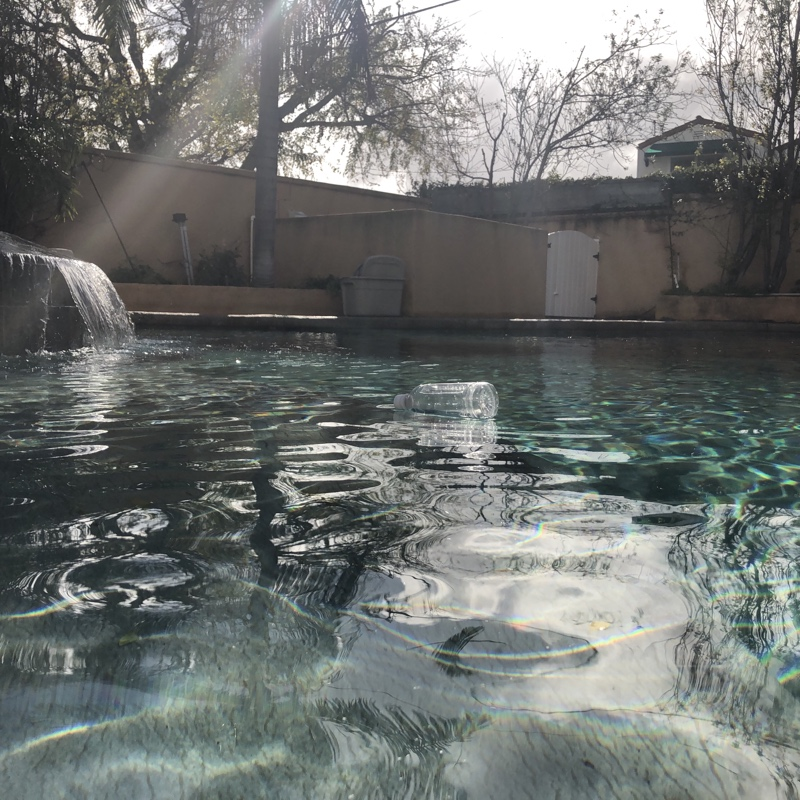Plastic Bottle: (389, 374, 502, 426)
